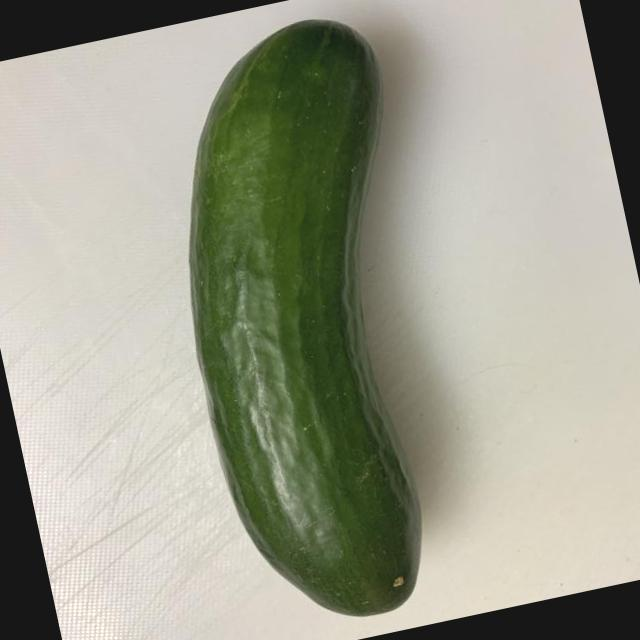Cucumber: (133, 0, 508, 639)
